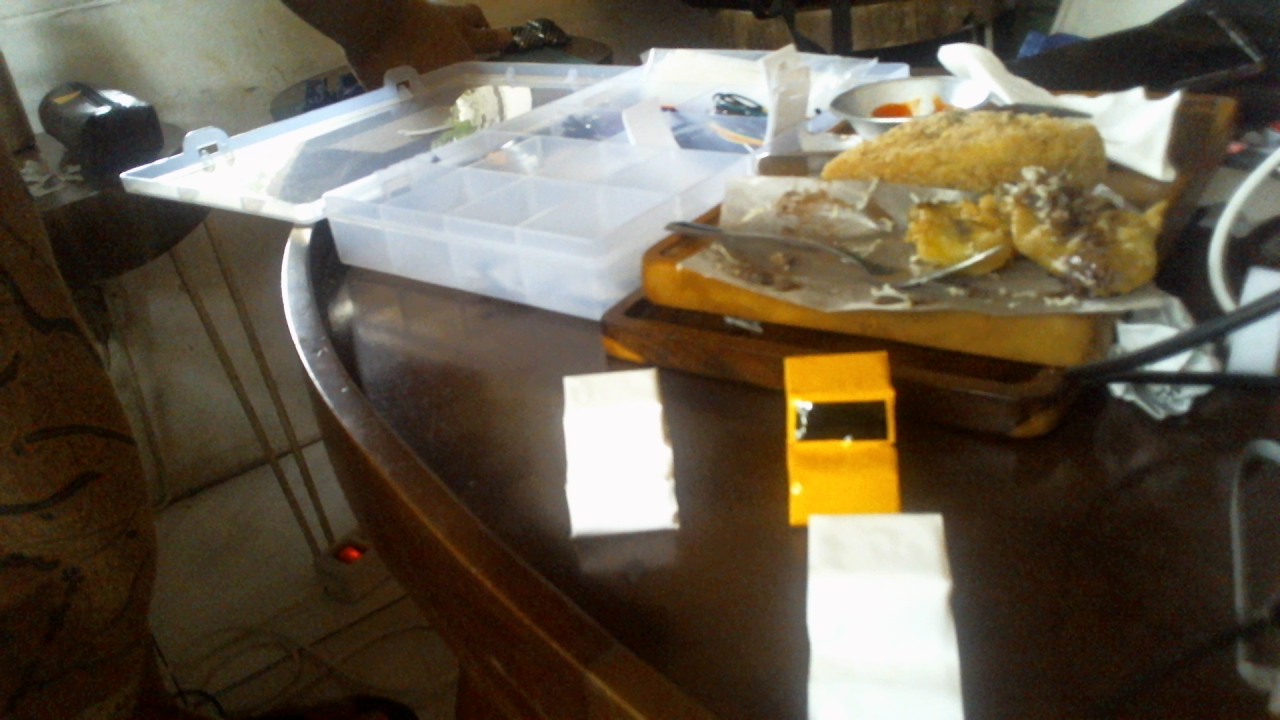Kijang Kapsul: (745, 333, 969, 528)
